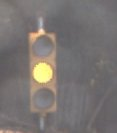Yellow: (22, 22, 70, 132)
